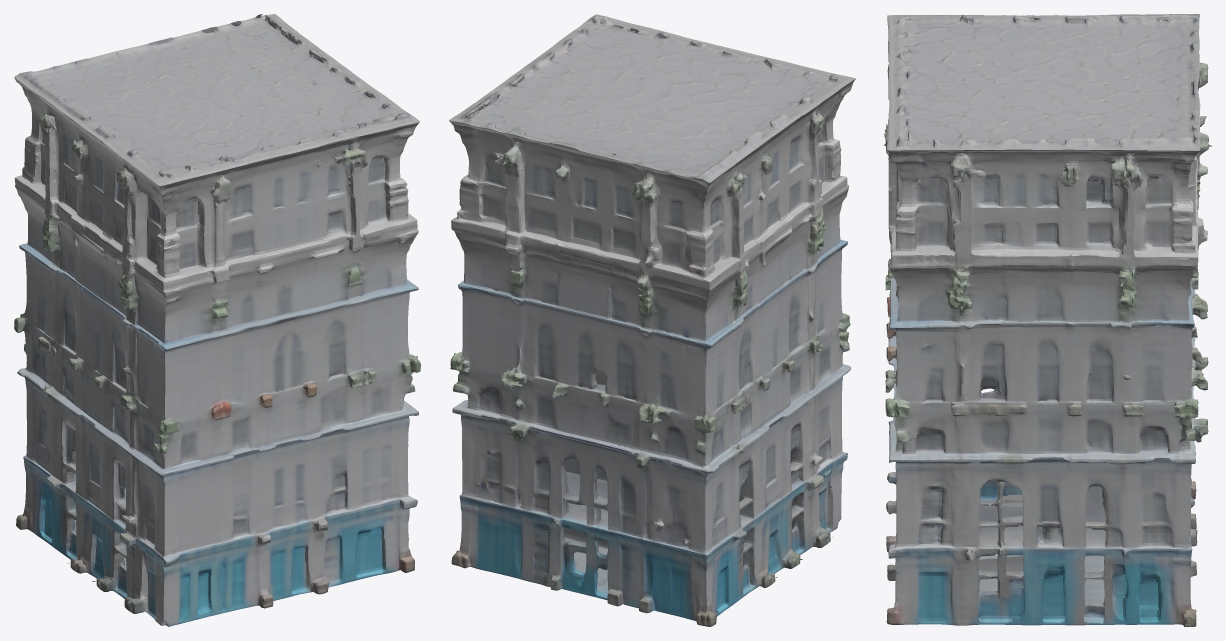
Rendered from fastsam3d.glb.
3 views of the same model, side by side, from view 1: azimuth 30°, elevation 25°; view 2: azimuth 150°, elevation 25°; view 3: azimuth 270°, elevation 25° (orthographic). The views are drawn at different scales.
Visible parts, largest first — view 1: geometry_0; view 2: geometry_0; view 3: geometry_0.
Boxes of the visible parts, left/top/right/bottom form: geometry_0: left=14, top=14, right=420, bottom=626; geometry_0: left=449, top=14, right=855, bottom=626; geometry_0: left=884, top=14, right=1211, bottom=626.
Bounding box in the file's own units: 0.3985 × 0.6391 × 0.3894.
